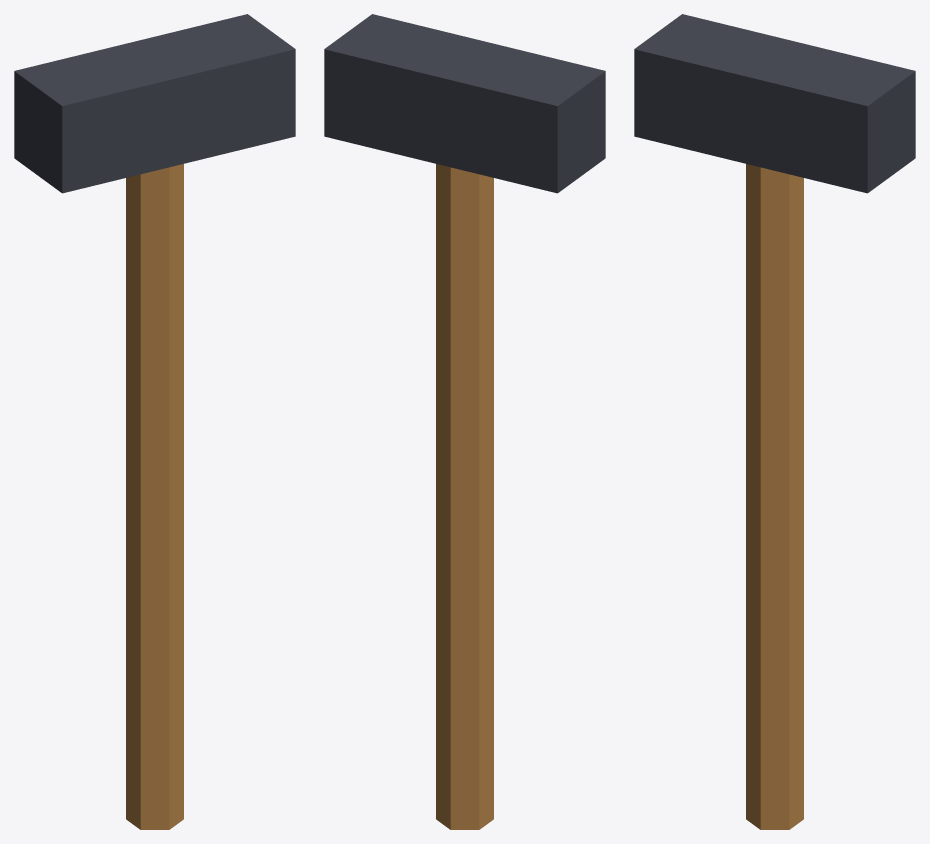
Rendered from smith_hammer.glb.
The picture shows the model from 3 angles, left to right: view 1: azimuth 30°, elevation 25°; view 2: azimuth 150°, elevation 25°; view 3: azimuth 330°, elevation 25°; orthographic projection.
Parts seen in each view (by area): view 1: smith_hammer; view 2: smith_hammer; view 3: smith_hammer.
Boxes of the visible parts, x1=… form: smith_hammer: x1=14, y1=14, x2=295, y2=829; smith_hammer: x1=324, y1=14, x2=605, y2=829; smith_hammer: x1=634, y1=14, x2=915, y2=829.
Bounding box in the file's own units: 0.28 × 0.87 × 0.1.
